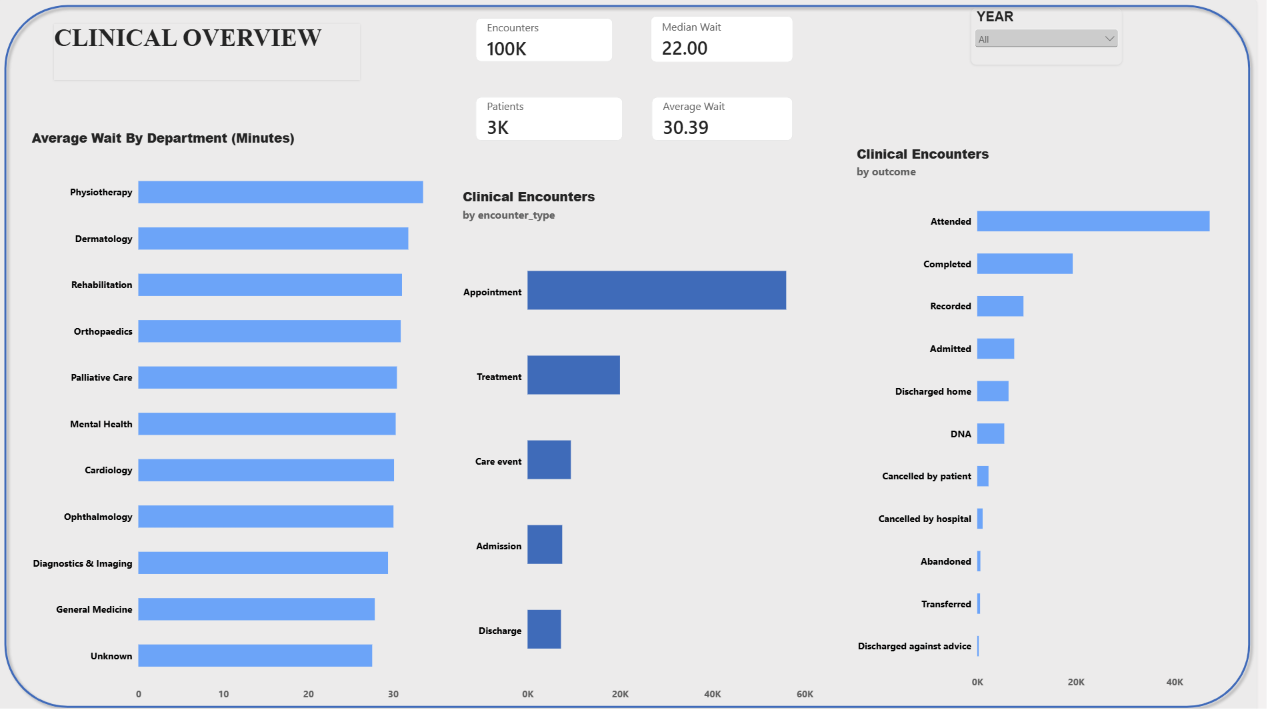

This screenshot's page, from the dashboard's own definition file:
{"tool":"powerbi","page":{"name":"Clinical Overview","canvas":[1920,1080],"ordinal":1},"visuals":[{"type":"shape","box":[0,0,1899.4,1080.2],"z":0},{"type":"clusteredBarChart","fields":{"Category":["public vw_clinical_reporting.encounter_type"],"Y":["_Measures.Clinical Encounters"]},"box":[684.8,271.2,561.1,808.6],"z":1000},{"type":"clusteredBarChart","fields":{"Category":["public vw_clinical_reporting.outcome"],"Y":["_Measures.Clinical Encounters"]},"box":[1279.3,206.7,598.9,855.4],"z":2000},{"type":"cardVisual","fields":{"Data":["_Measures.Clinical Encounters"]},"box":[705.2,15.3,239,96.6],"z":3000},{"type":"cardVisual","fields":{"Data":["_Measures.Clinical Patients"]},"box":[705.2,133.9,254.3,96.6],"z":4000},{"type":"cardVisual","fields":{"Data":["_Measures.Clinical Average Wait"]},"box":[969.6,133.9,245.8,96.6],"z":5000},{"type":"cardVisual","fields":{"Data":["_Measures.Clinical Median Wait"]},"box":[967.9,11.9,247.5,100],"z":6000},{"type":"clusteredBarChart","title":"Average Wait By Department (Minutes)","fields":{"Category":["public vw_clinical_reporting.department_name_clean"],"Y":["_Measures.Clinical Average Wait"]},"box":[34.7,182.5,650.2,897.7],"z":7000},{"type":"slicer","fields":{"Values":["DateTable.Year"]},"box":[1467.9,15.1,227.8,84.5],"z":8000},{"type":"textbox","box":[84.5,37.7,461.6,84.5],"z":9000}]}

Visuals, with their boxes in screenshot pixels (x1, y1, x2, y2), scaled from the page's 1920x1080 canvas onto the 1267x709 screenshot:
shape: 0,0,1253,708
clusteredBarChart - public vw_clinical_reporting.encounter_type x _Measures.Clinical Encounters: 452,178,822,708
clusteredBarChart - public vw_clinical_reporting.outcome x _Measures.Clinical Encounters: 844,136,1239,697
cardVisual - _Measures.Clinical Encounters: 465,10,623,73
cardVisual - _Measures.Clinical Patients: 465,88,633,151
cardVisual - _Measures.Clinical Average Wait: 640,88,802,151
cardVisual - _Measures.Clinical Median Wait: 639,8,802,73
"Average Wait By Department (Minutes)" clusteredBarChart: 23,120,452,708
slicer - DateTable.Year: 969,10,1119,65
textbox: 56,25,360,80
